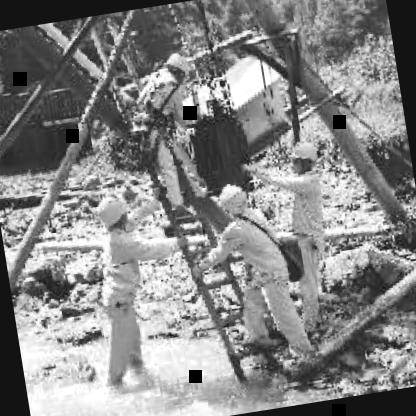helmet: (91, 190, 134, 233), (282, 136, 322, 181), (214, 178, 251, 220), (160, 48, 195, 86)
